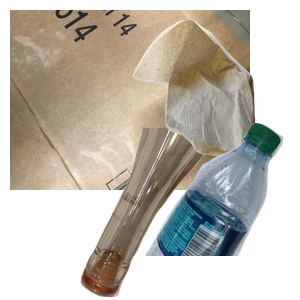cardboard: (10, 10, 250, 190)
glass: (78, 128, 298, 300)
plastic: (142, 120, 300, 300)
trash: (131, 17, 300, 197)
